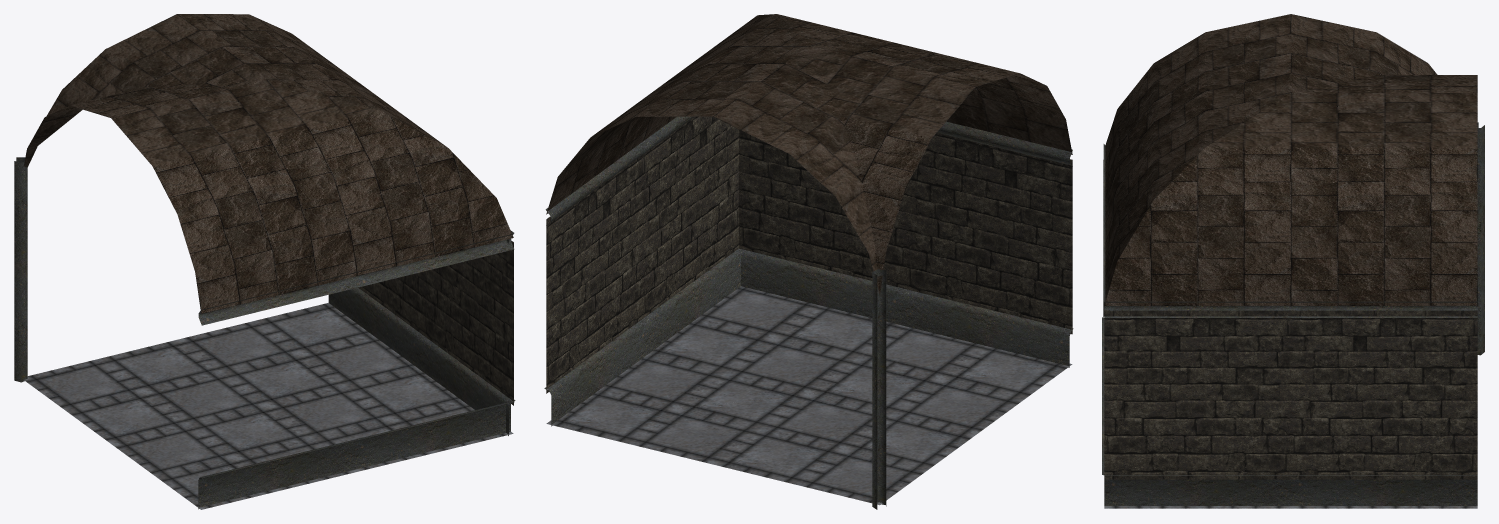
The model's file is Turn.fbx.
The picture shows the model from 3 angles, left to right: view 1: azimuth 30°, elevation 25°; view 2: azimuth 150°, elevation 25°; view 3: azimuth 270°, elevation 25°; orthographic projection. The views are drawn at different scales.
Parts seen in each view (by area): view 1: Plane_008, Plane_015, Plane_002, Mesh, Mesh_001, Plane_011, Cylinder; view 2: Plane_015, Plane_008, Plane_009, Plane_002, Mesh, Mesh_001, Cylinder, Plane_000, Plane_011; view 3: Plane_008, Plane_002, Mesh_001, Plane_000, Cylinder, Plane_015, Plane_011, Mesh.
Boxes of the visible parts, box(x1,y1,x2,y2) form: Plane_008: box(23, 14, 513, 313); Plane_015: box(24, 303, 513, 509); Plane_002: box(358, 241, 513, 405); Mesh: box(198, 401, 514, 509); Mesh_001: box(328, 287, 515, 435); Plane_011: box(198, 233, 514, 325); Cylinder: box(14, 157, 27, 382); Plane_015: box(546, 286, 1072, 505); Plane_008: box(546, 14, 1072, 295); Plane_009: box(739, 129, 1072, 334); Plane_002: box(546, 116, 738, 393); Mesh: box(739, 248, 1073, 367); Mesh_001: box(544, 248, 740, 426); Cylinder: box(872, 269, 886, 509); Plane_000: box(545, 116, 694, 224); Plane_011: box(937, 121, 1072, 165); Plane_008: box(1104, 14, 1477, 305); Plane_002: box(1104, 310, 1477, 479); Mesh_001: box(1104, 475, 1477, 505); Plane_000: box(1104, 301, 1477, 317); Cylinder: box(1477, 122, 1484, 355); Plane_015: box(1104, 506, 1477, 508); Plane_011: box(1103, 144, 1109, 316); Mesh: box(1102, 317, 1104, 475).
Size of the model in its own units: 4.1 by 4 by 4.1.
